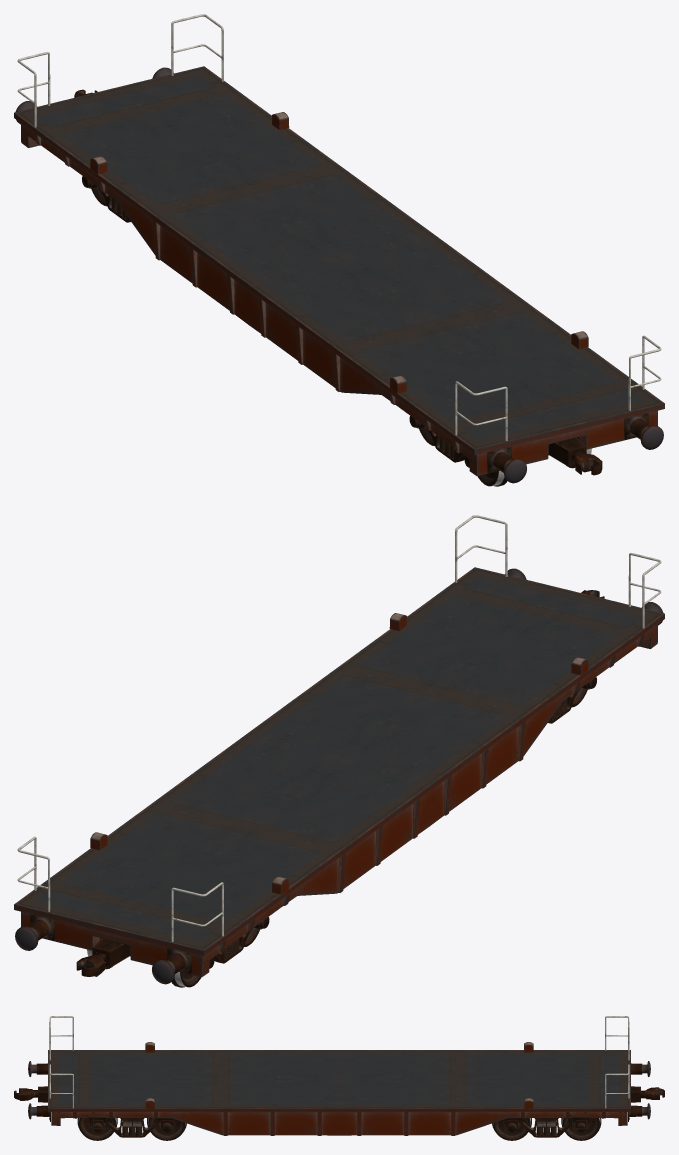
File: SM_car2.gltf
The picture shows the model from 3 angles, top to bottom: view 1: azimuth 30°, elevation 25°; view 2: azimuth 150°, elevation 25°; view 3: azimuth 270°, elevation 25°; orthographic projection. The views are drawn at different scales.
Parts seen in each view (by area): view 1: SM_car2; view 2: SM_car2; view 3: SM_car2.
Boxes of the visible parts, x1,y1,x2,y2 form: SM_car2: (14, 14, 664, 486); SM_car2: (14, 515, 664, 987); SM_car2: (14, 1016, 664, 1140).
Bounding box in the file's own units: 3.86 × 2.5 × 17.83.
Materials: 2 (2 with a texture image).
